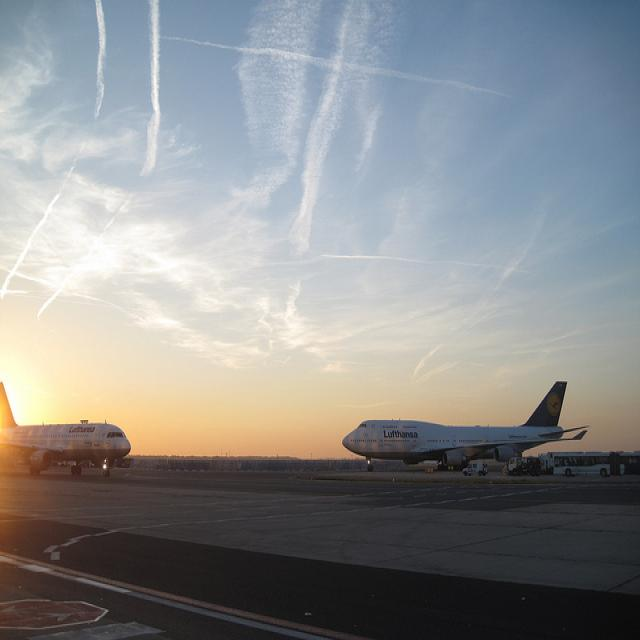Vehicle: (552, 452, 622, 477), (462, 461, 488, 476)
